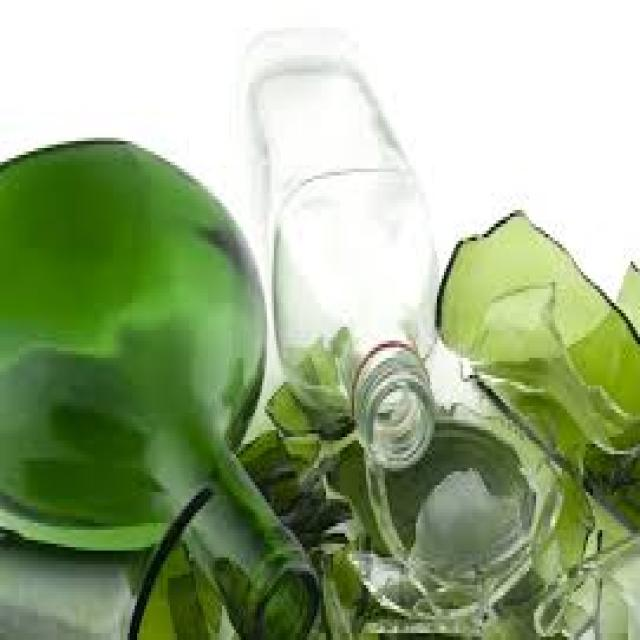glass: (0, 138, 319, 637), (121, 403, 579, 637), (232, 24, 442, 471), (435, 207, 638, 558), (461, 275, 631, 454), (404, 468, 524, 612), (529, 568, 607, 637), (609, 262, 638, 324)
